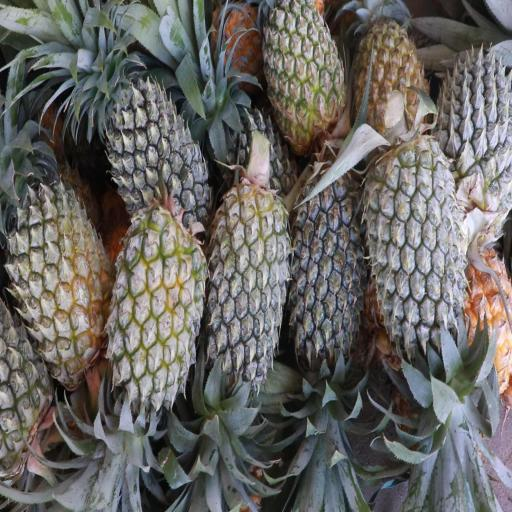------------------------------: (110, 210, 208, 430), (7, 178, 112, 373), (265, 0, 348, 146), (358, 3, 427, 147)
